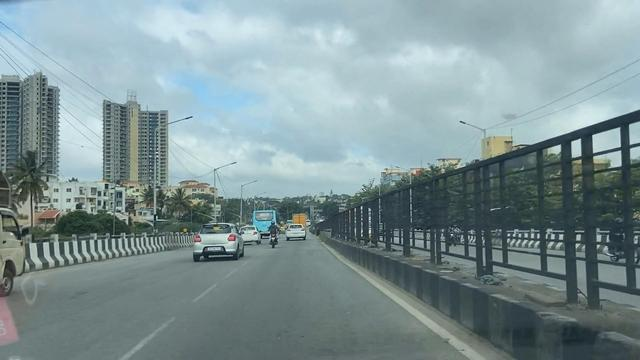HMV: (0, 158, 60, 309), (251, 203, 282, 246)
LMV: (194, 212, 247, 269), (260, 207, 287, 261), (283, 220, 311, 250), (239, 225, 263, 247)
